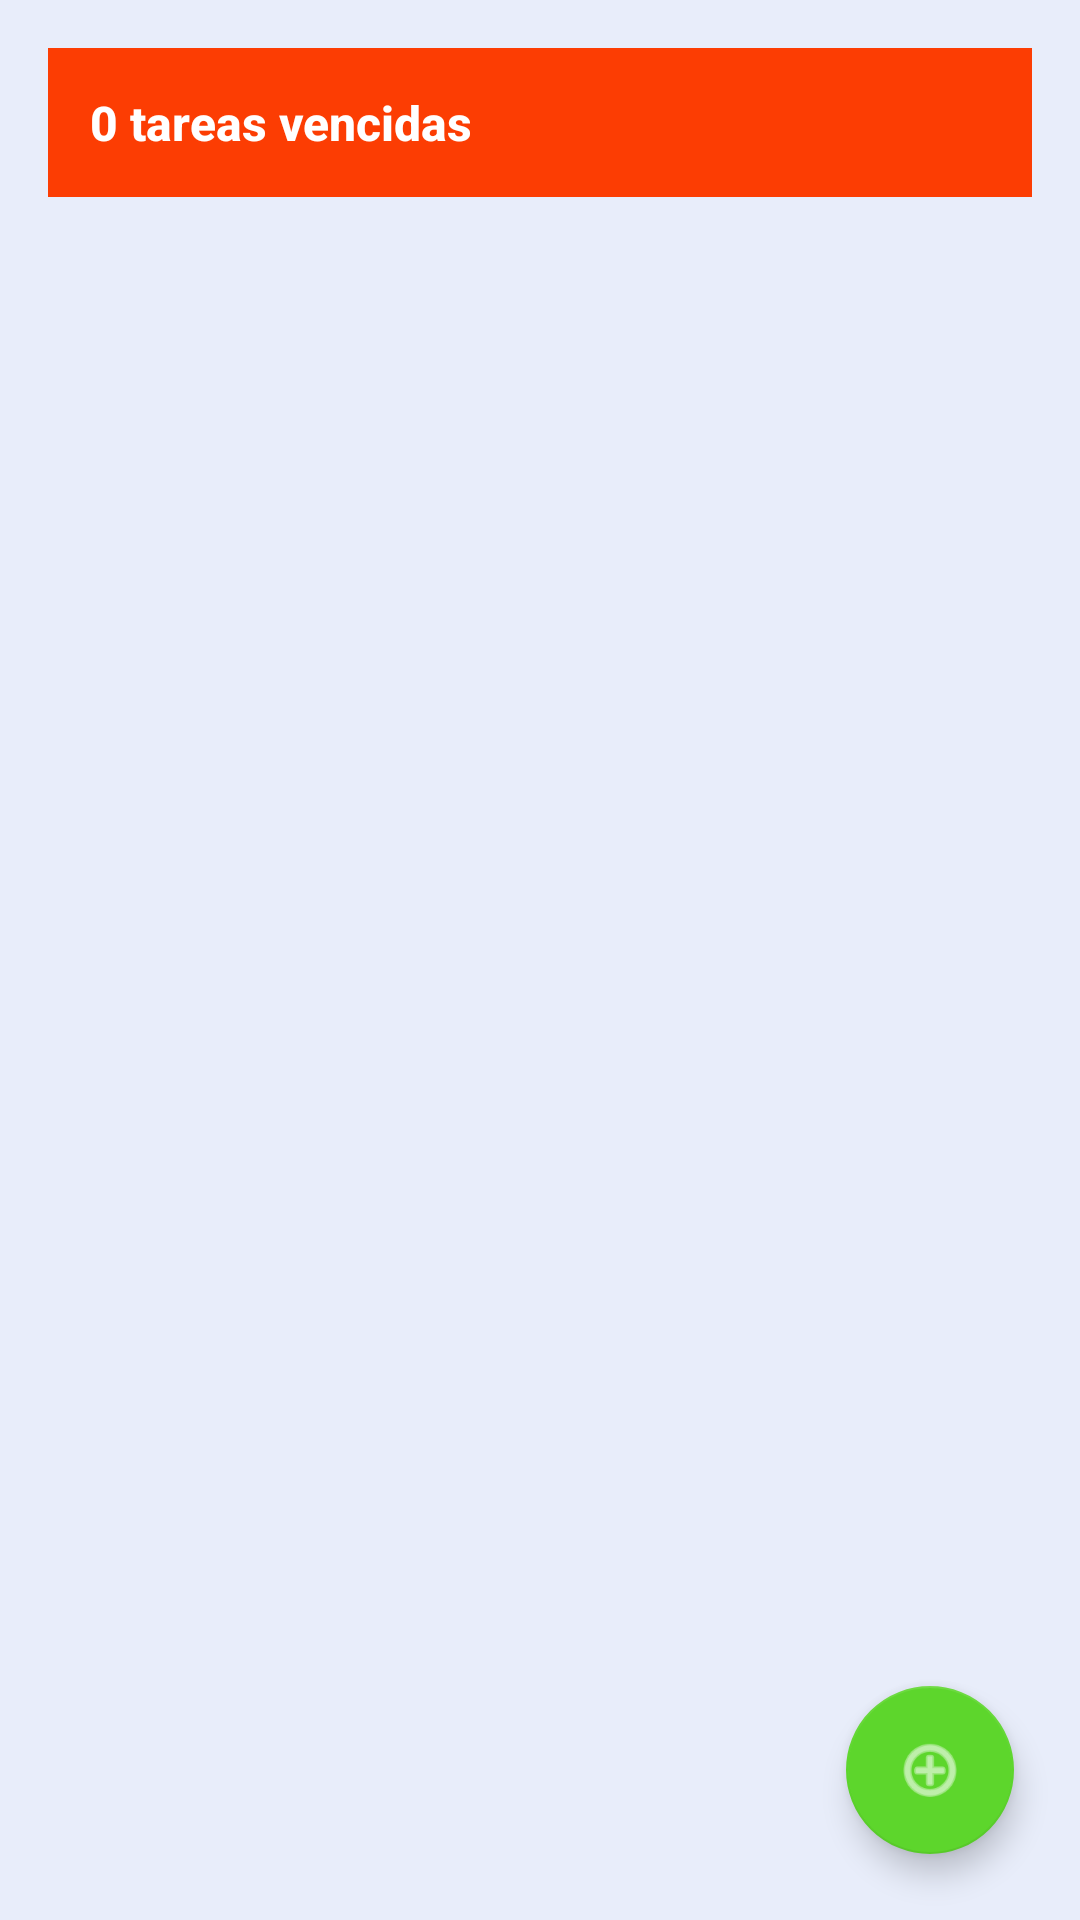

Where icons sit on this 1080px×1920px app screen, as [x1=x1, y1=y1, x2=x2, y2=y2]:
Agregar tarea: [x1=846, y1=1686, x2=1014, y2=1854]
